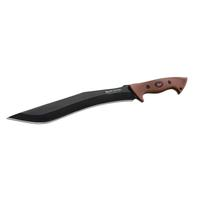knife: (5, 76, 192, 125)
